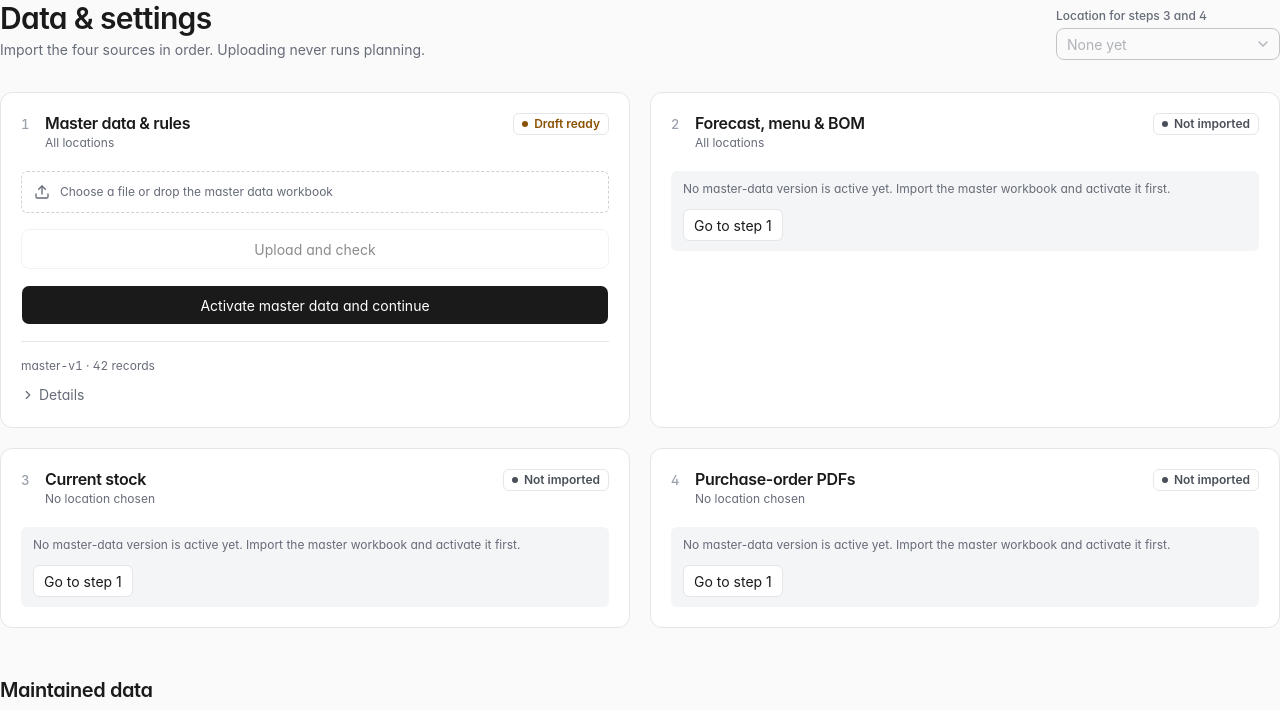
it: activation completes step 1 › abandons activation on cancel
What coordinates should you click on to do the following:
click the button "Activate master data and continue"
I would click on:
 (315, 305)
Its box is [21,285,609,325].
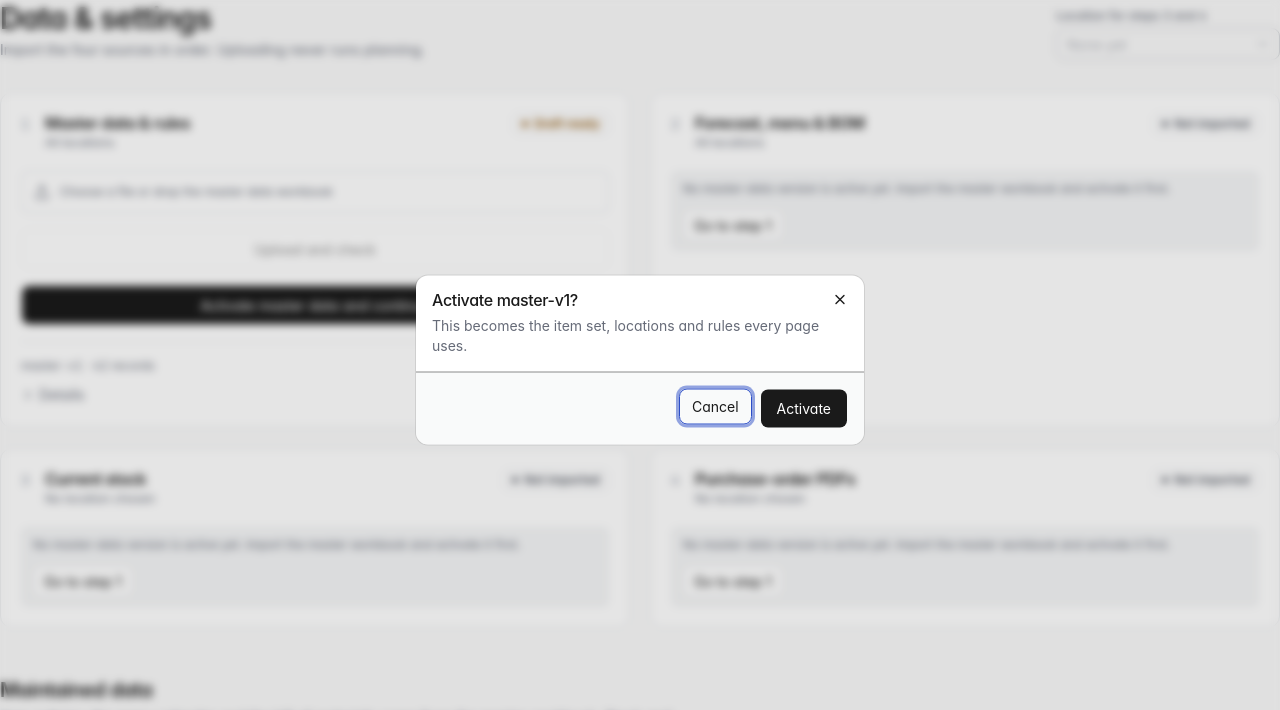
What coordinates should you click on to do the following:
click the button "Cancel"
I would click on:
 (715, 406)
Its box is [679,388,752,424].
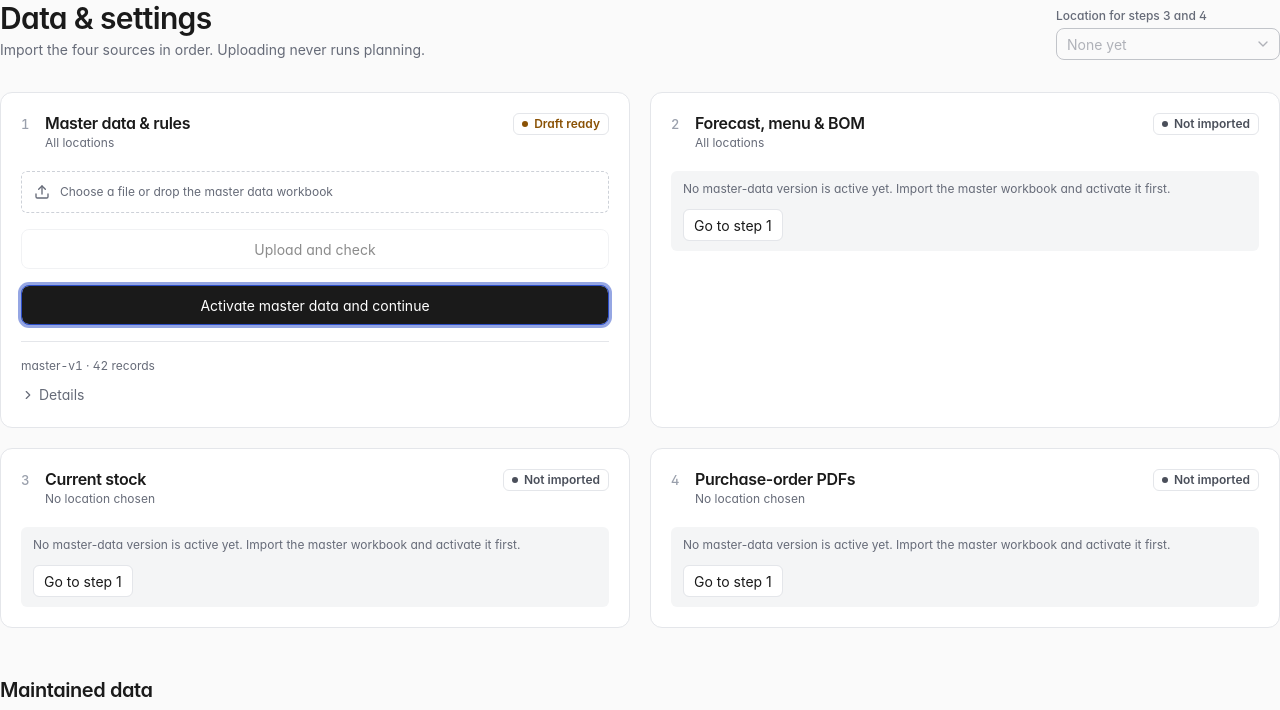
Expected: the dialog is gone
